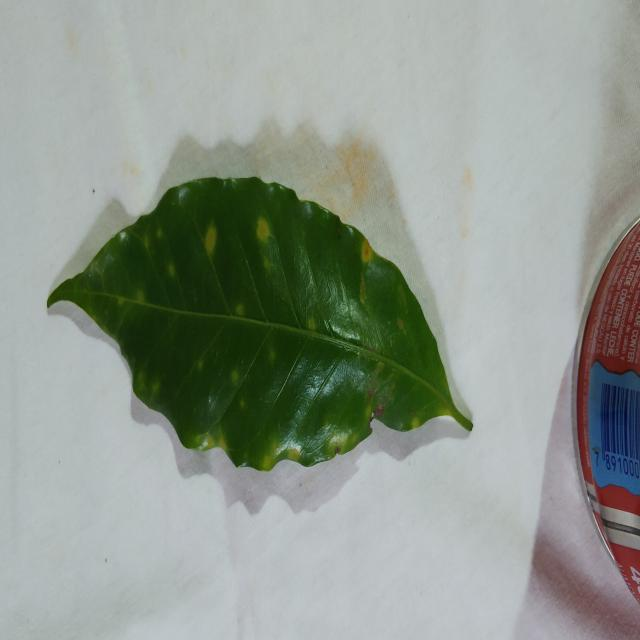Enfermedad-Roya: (47, 177, 472, 474)
